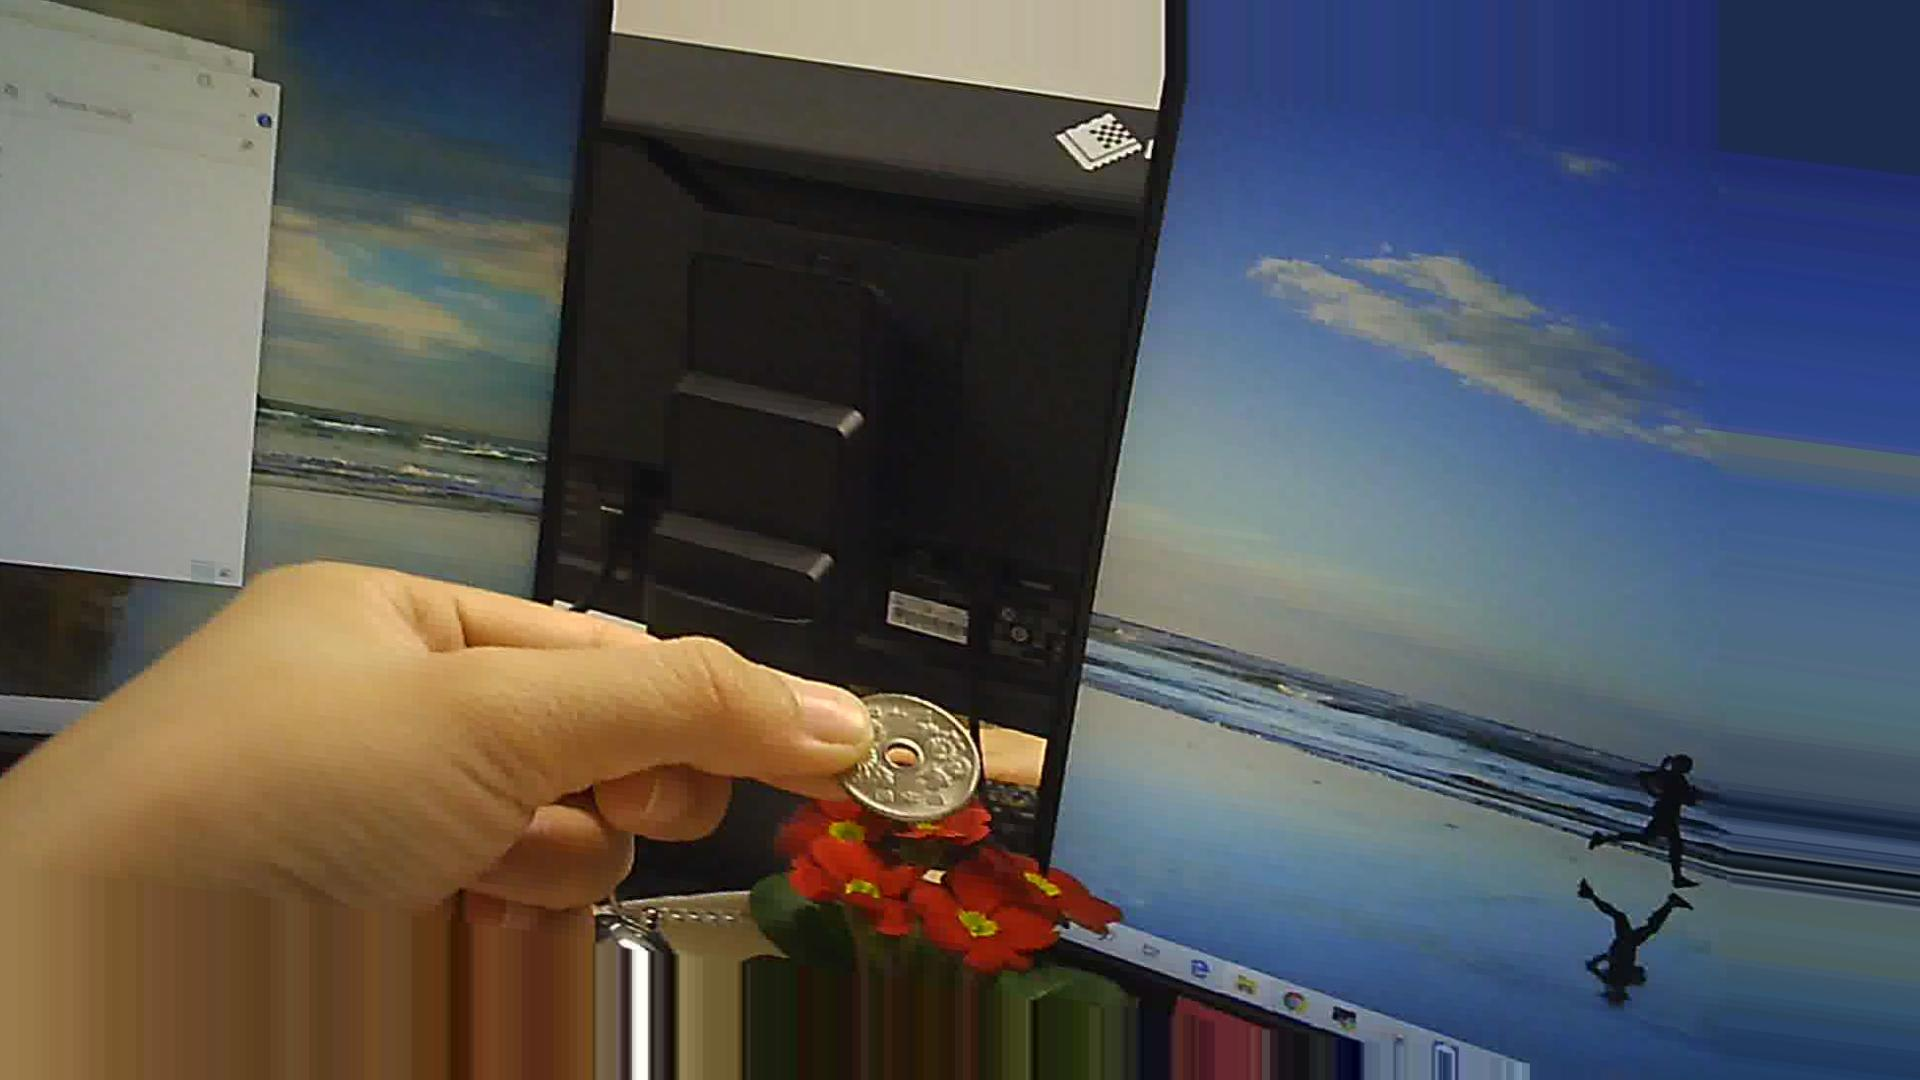50 Yen: (812, 682, 982, 844)
